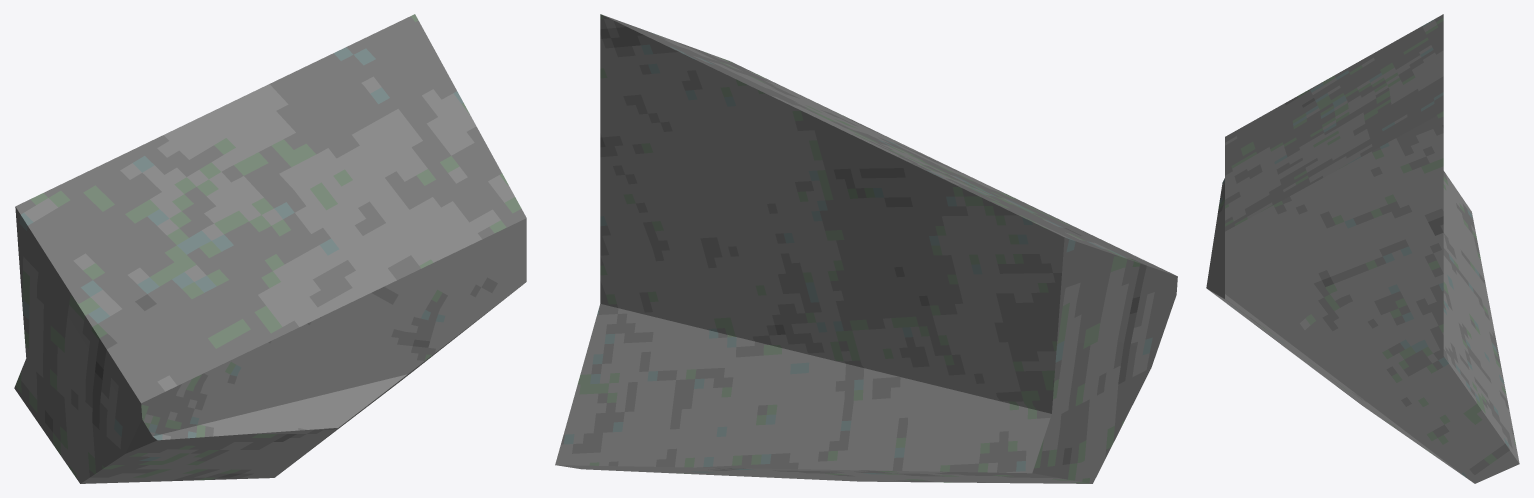
File: barriar_cell_010.glb
The picture shows the model from 3 angles, left to right: view 1: azimuth 30°, elevation 25°; view 2: azimuth 150°, elevation 25°; view 3: azimuth 270°, elevation 25°; orthographic projection. The views are drawn at different scales.
Visible parts, largest first — view 1: Barriar_cell.010; view 2: Barriar_cell.010; view 3: Barriar_cell.010.
Part boxes in pixels (box(x1,y1,x2,y2)): Barriar_cell.010: box(14, 14, 526, 483); Barriar_cell.010: box(555, 14, 1177, 483); Barriar_cell.010: box(1206, 14, 1519, 483).
Bounding box in the file's own units: 0.8555 × 0.7952 × 0.5938.
1 material, 1 textured.
